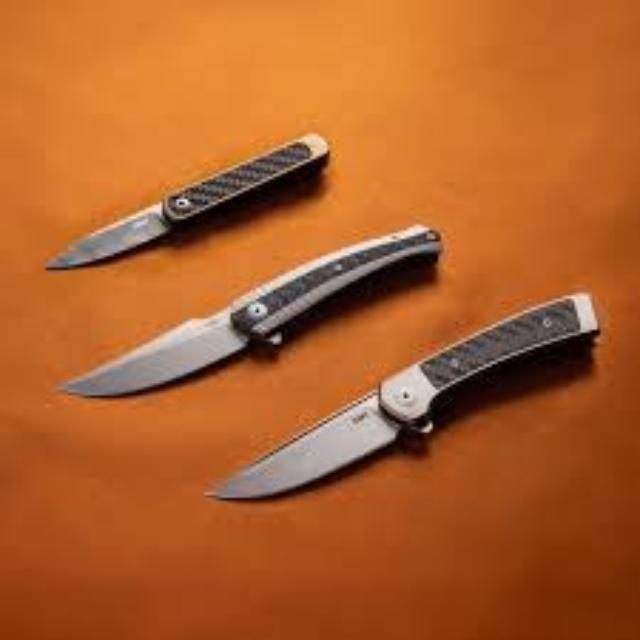Knife: (202, 290, 600, 500), (57, 222, 441, 398), (43, 132, 330, 270)
